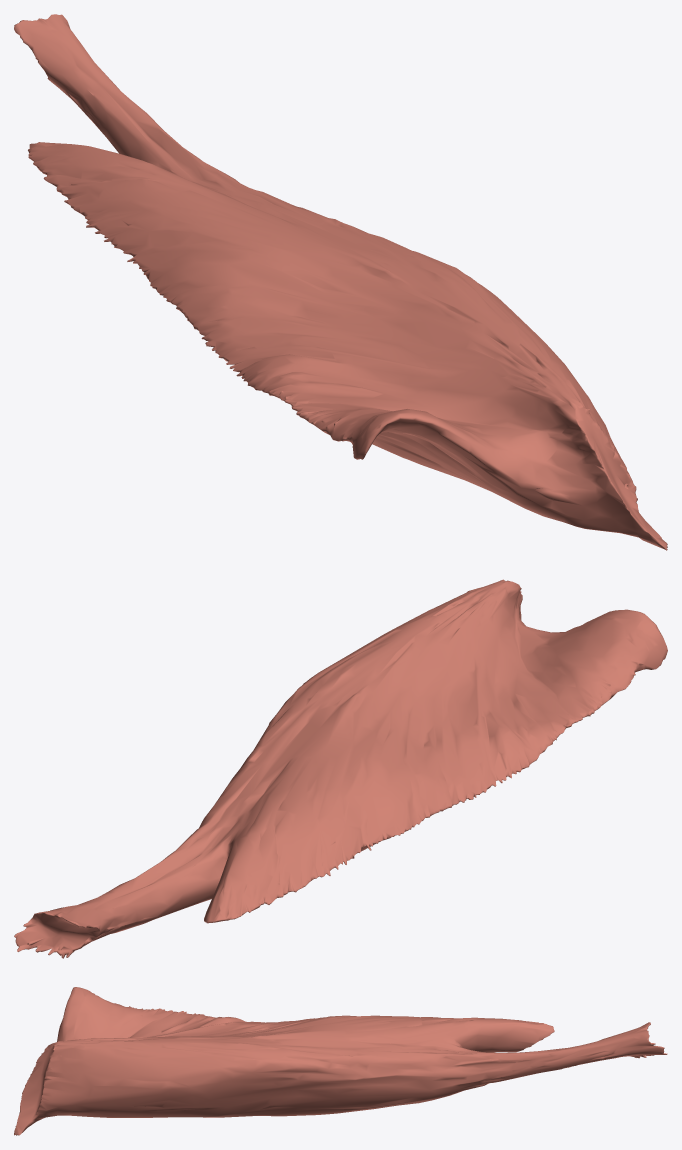
The picture shows the model from 3 angles, top to bottom: view 1: azimuth 30°, elevation 25°; view 2: azimuth 150°, elevation 25°; view 3: azimuth 270°, elevation 25°; orthographic projection. The views are drawn at different scales.
Visible parts, largest first — view 1: 右侧大收肌; view 2: 右侧大收肌; view 3: 右侧大收肌.
Boxes of the visible parts, left/top/right/bottom form: 右侧大收肌: left=14, top=14, right=667, bottom=550; 右侧大收肌: left=14, top=579, right=667, bottom=958; 右侧大收肌: left=14, top=987, right=667, bottom=1135.
Size of the model in its own units: 0.1438 by 0.0772 by 0.5271.
